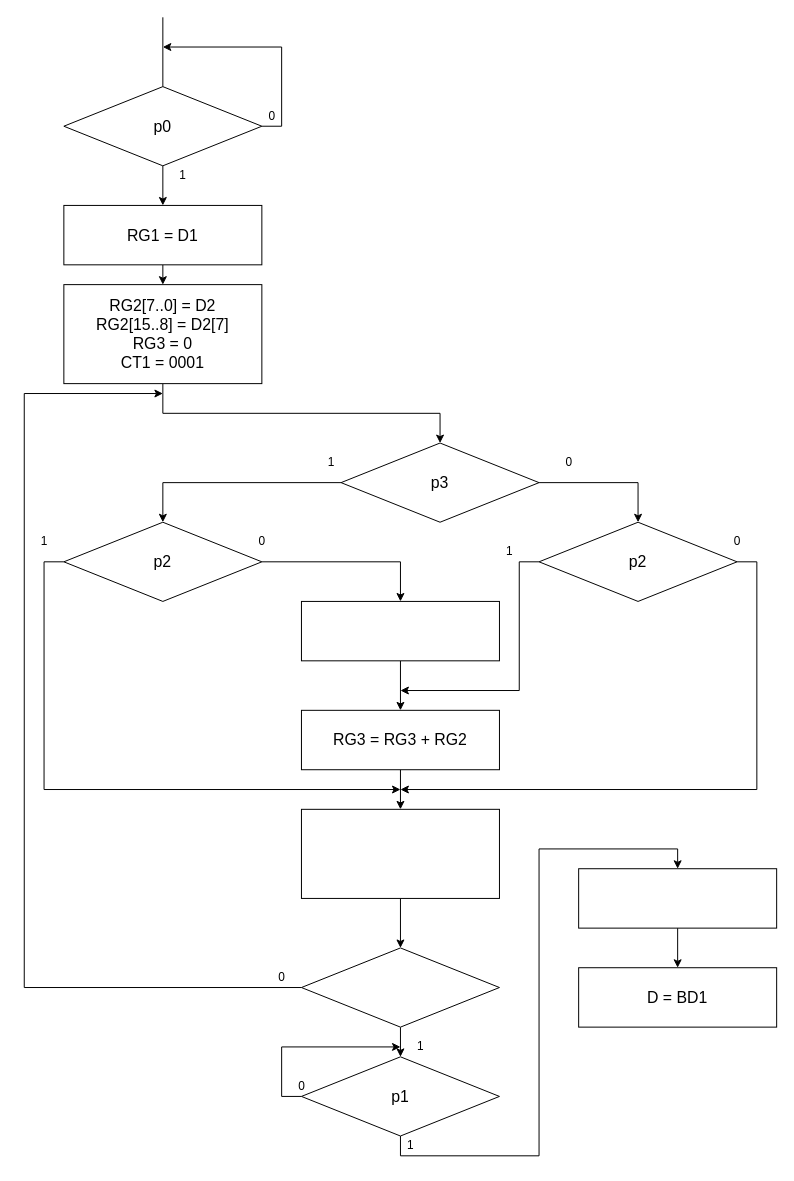
The diagram is 794 pixels wide and 1181 high, and some of its shapes have lost their labels. Each missing label, with the centre of its shape:
"D = BD2" goes at point 677,898.
"p4" goes at point 399,987.
"RG1 = RG1[8].RG1[8..1] RG2 = RG2[14..0].0 CT1 = CT1 + 1" goes at point 399,853.
"RG2 = -RG2" goes at point 399,630.
